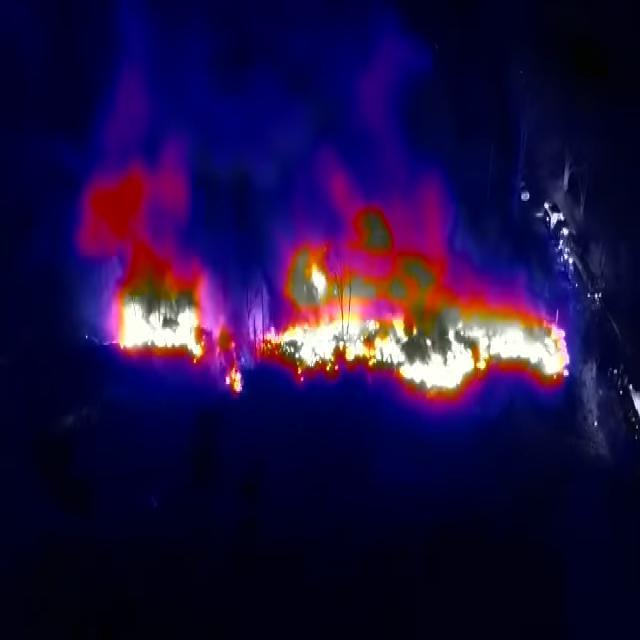fire: (250, 234, 577, 398), (111, 272, 247, 402)
